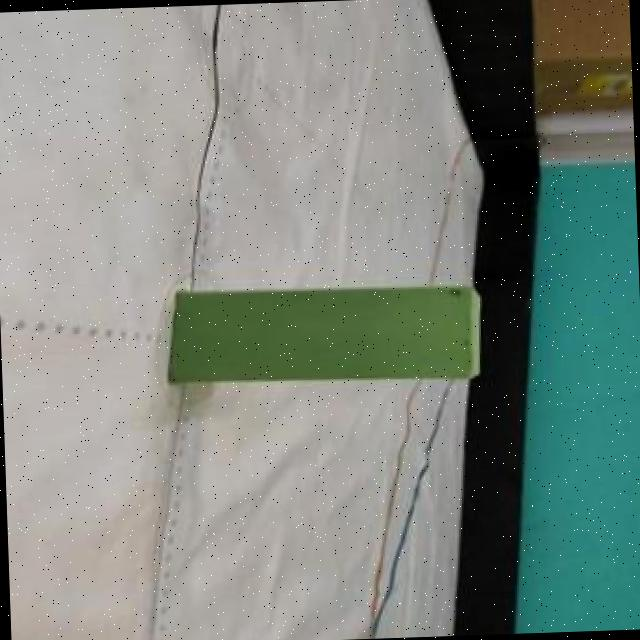greenbox: (159, 280, 486, 389)
